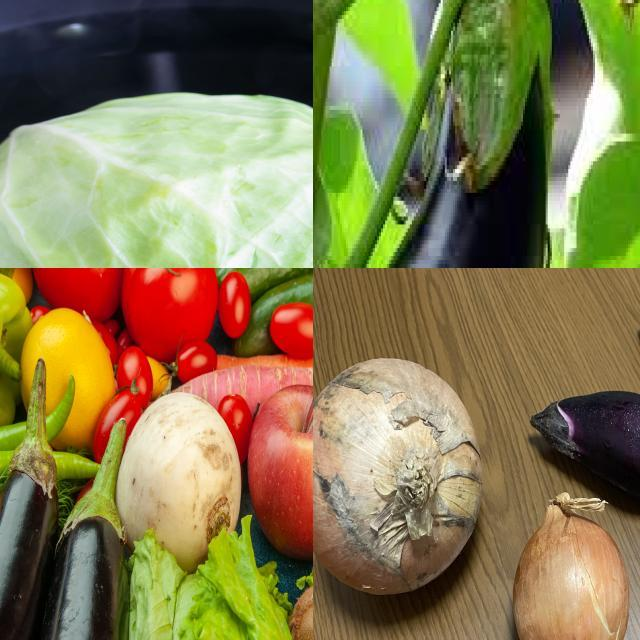bell_pepper: (1, 273, 31, 423)
cabbage: (1, 88, 314, 269)
cucumber: (253, 282, 314, 337)
eggplant: (314, 1, 548, 269), (41, 433, 134, 640), (1, 363, 60, 640), (526, 388, 640, 505)
onion: (314, 354, 491, 611), (512, 503, 631, 640)
tomato: (124, 269, 220, 354), (38, 269, 127, 317)
